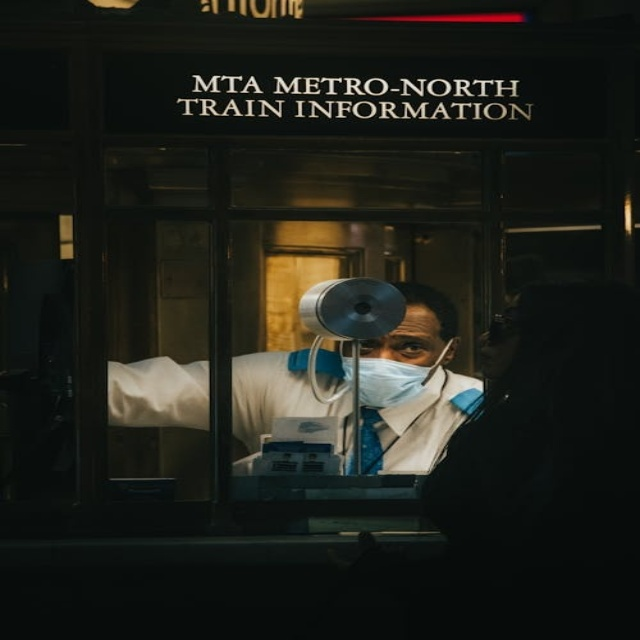Mascara: (336, 350, 436, 409)
Sin_gafas: (346, 335, 431, 358)
Sin_mascara: (472, 346, 508, 370)
